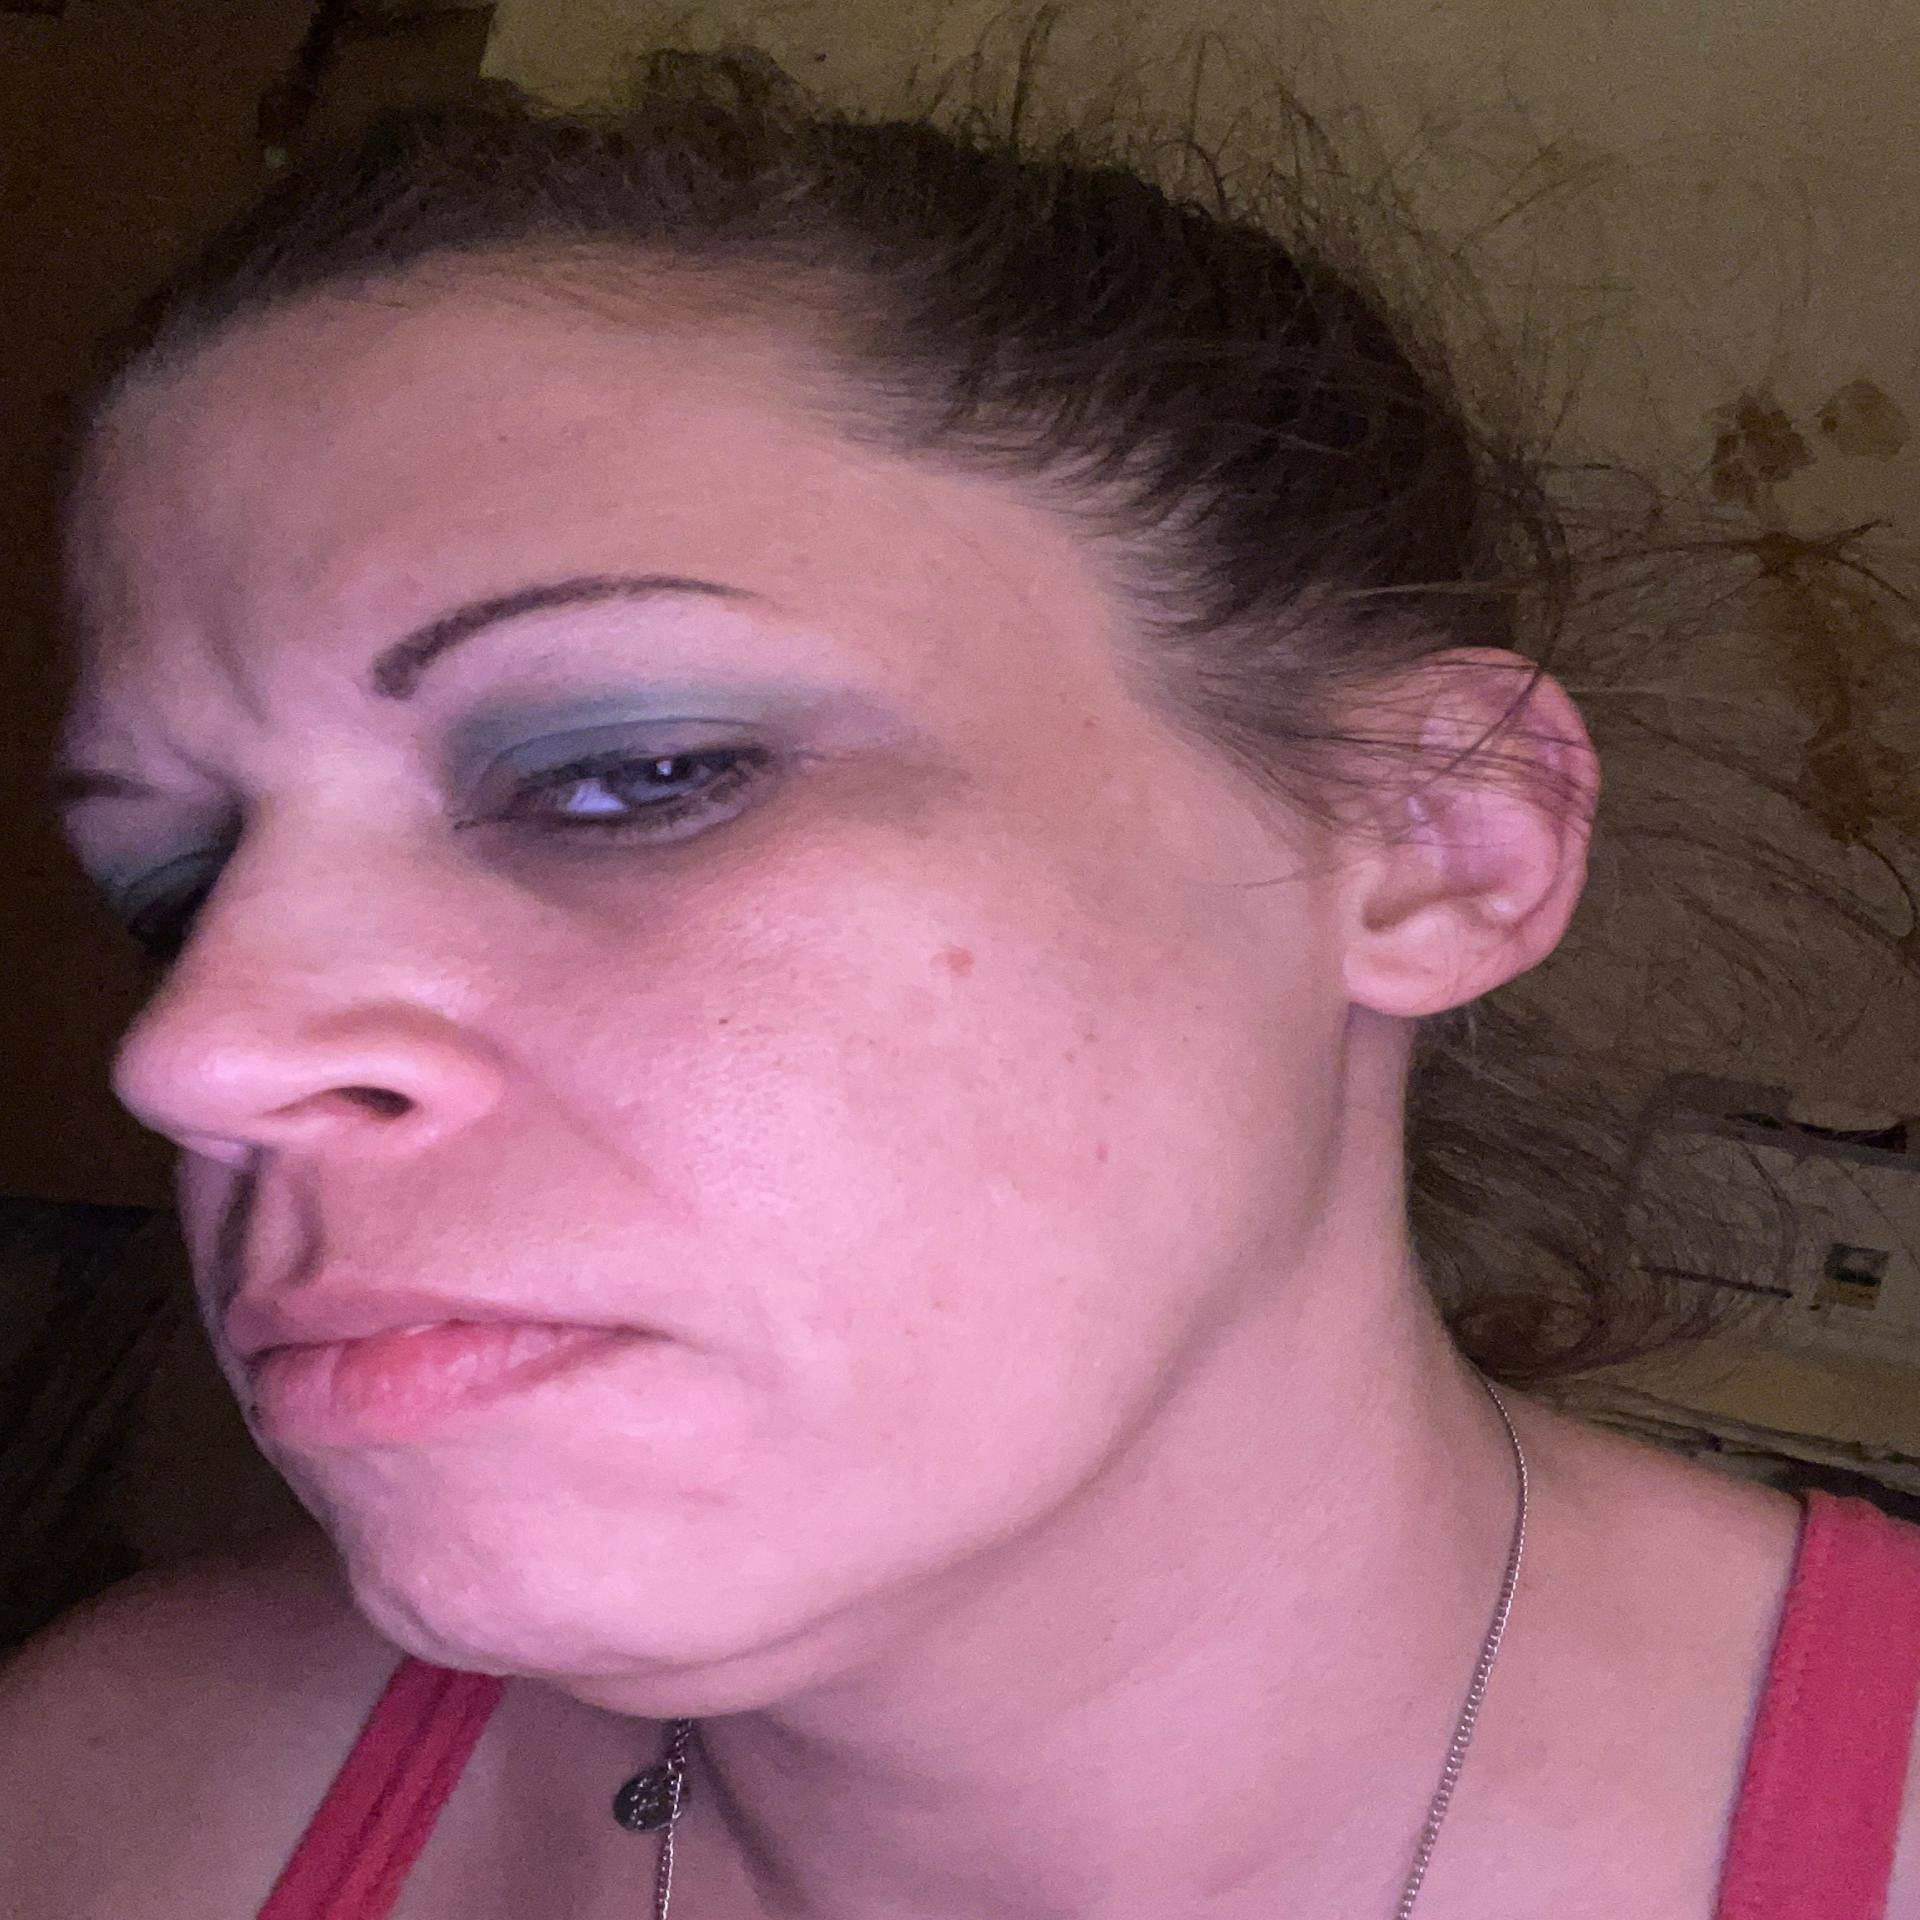Acne: (638, 1480, 756, 1519), (928, 935, 995, 983), (1081, 1129, 1127, 1175)
Dark Circles: (473, 768, 886, 935)
Englarged Pores: (542, 1007, 842, 1169)
Wrinkles: (494, 1050, 703, 1254), (730, 1271, 784, 1461), (200, 596, 251, 723)
